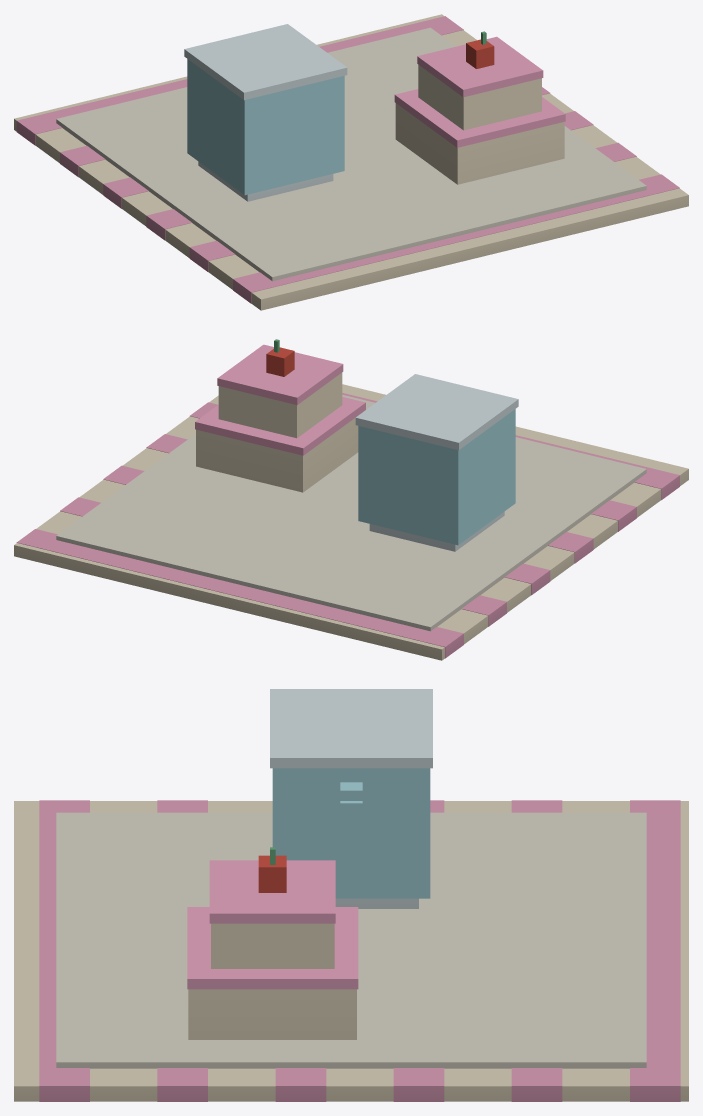
File: giant-tea-party.glb
3 renders of one model, top to bottom at view 1: azimuth 30°, elevation 25°; view 2: azimuth 150°, elevation 25°; view 3: azimuth 270°, elevation 25°, orthographic. The views are drawn at different scales.
Visible parts, largest first — view 1: giant-tea-party_body; view 2: giant-tea-party_body; view 3: giant-tea-party_body.
Boxes of the visible parts, x1=… form: giant-tea-party_body: x1=14, y1=14, x2=688, y2=310; giant-tea-party_body: x1=14, y1=339, x2=688, y2=660; giant-tea-party_body: x1=14, y1=689, x2=688, y2=1101.
Size of the model in its own units: 12.02 by 3.52 by 12.
